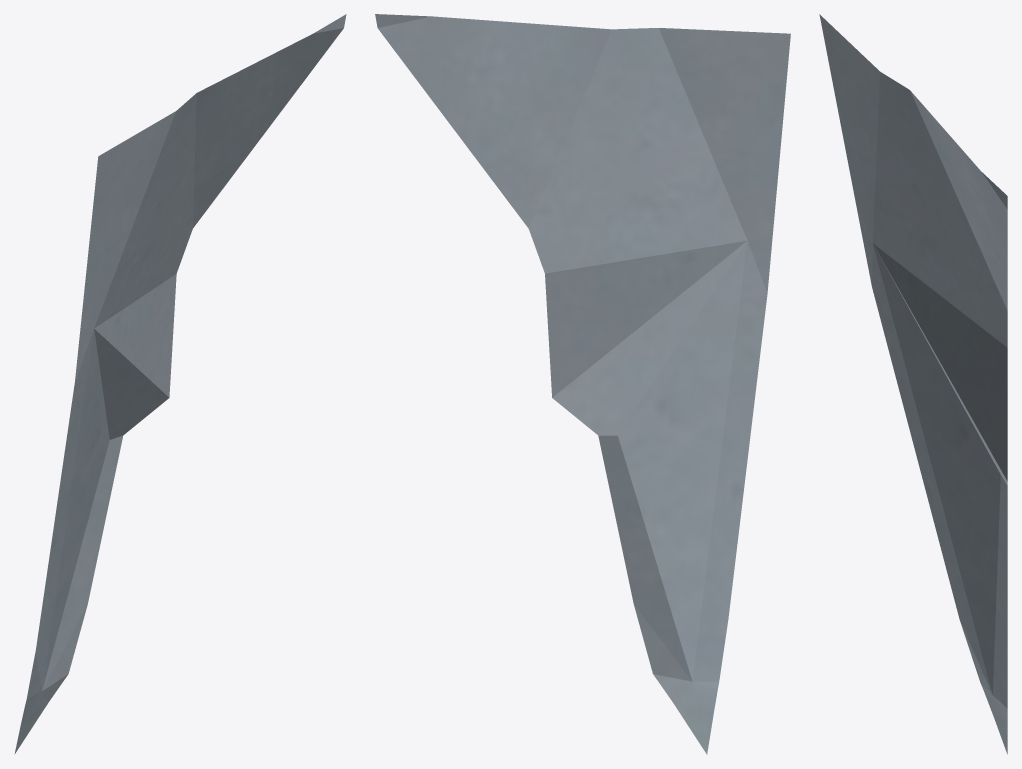
3 views of the same model, side by side, from view 1: azimuth 30°, elevation 25°; view 2: azimuth 150°, elevation 25°; view 3: azimuth 270°, elevation 25° (orthographic). The views are drawn at different scales.
Bounding box in the file's own units: 0.3395 × 0.6447 × 0.1484.
1 material, 1 textured.
